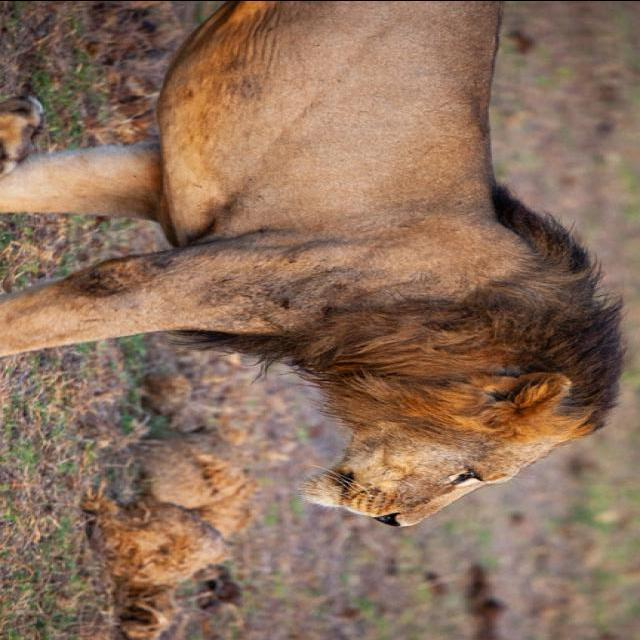lions: (8, 0, 640, 569)
